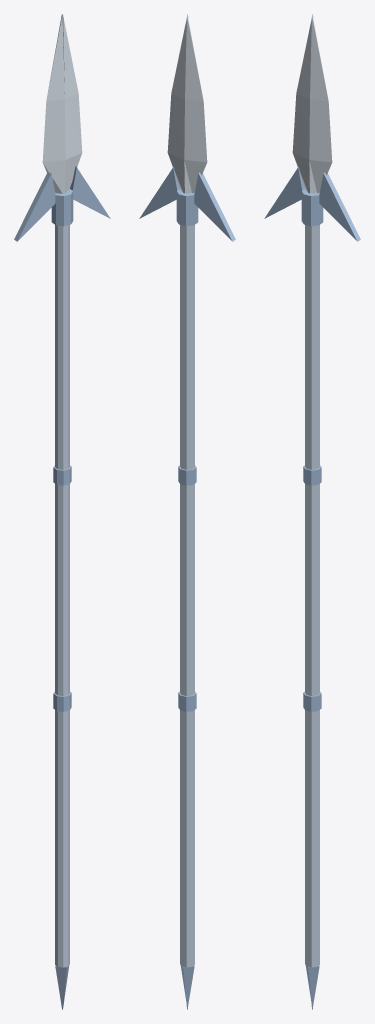
Rendered from Sylspear.obj.
3 views of the same model, side by side, from view 1: azimuth 30°, elevation 25°; view 2: azimuth 150°, elevation 25°; view 3: azimuth 330°, elevation 25° (orthographic).
Visible parts, largest first — view 1: Sylspear; view 2: Sylspear; view 3: Sylspear.
Part boxes in pixels (<box>): Sylspear: <box>14,14,110,1009</box>; Sylspear: <box>139,14,235,1009</box>; Sylspear: <box>264,14,360,1009</box>.
Size of the model in its own units: 0.26 by 2.64 by 0.048.
